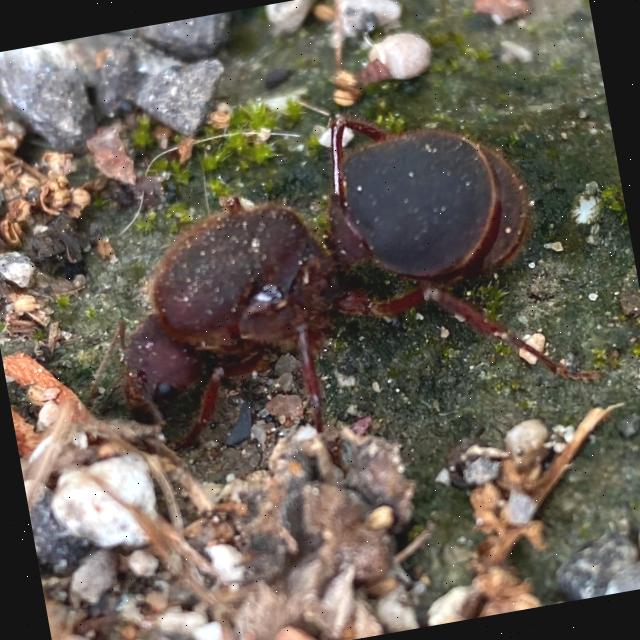Alive-Female-Dealate: (47, 70, 607, 473)
